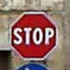stop: (7, 9, 60, 61)
